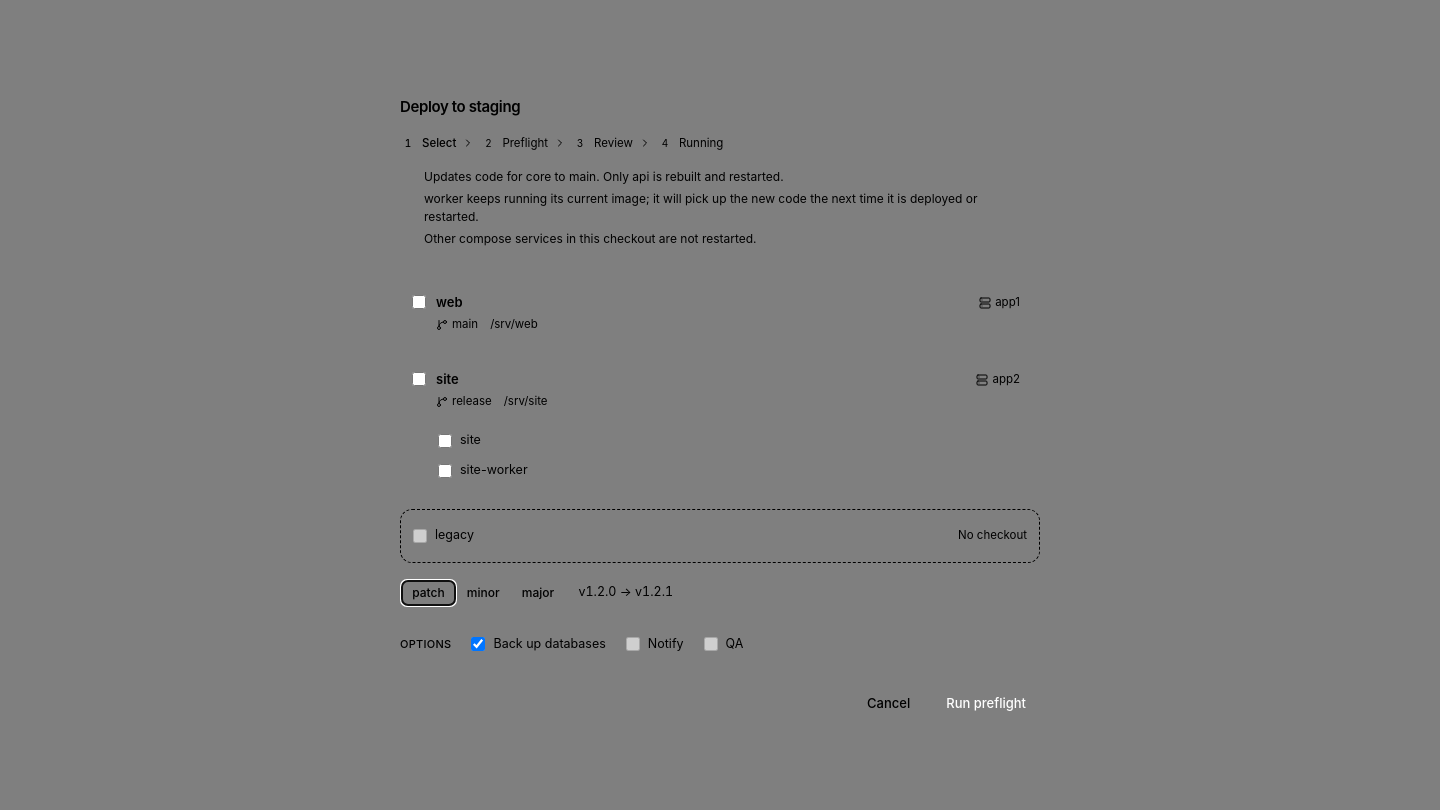
deploy wizard › preflight sends serviceIds and checkoutIds
Earlier steps of the test are not shown.
Later steps or results of the test are not shown.
(page scrolled)
Expected: the text "v1.2.0 → v1.2.1" is shown, [578, 583, 673, 602]
Click the checkbox named "Whole checkout" at (419, 302), box [412, 295, 426, 309]
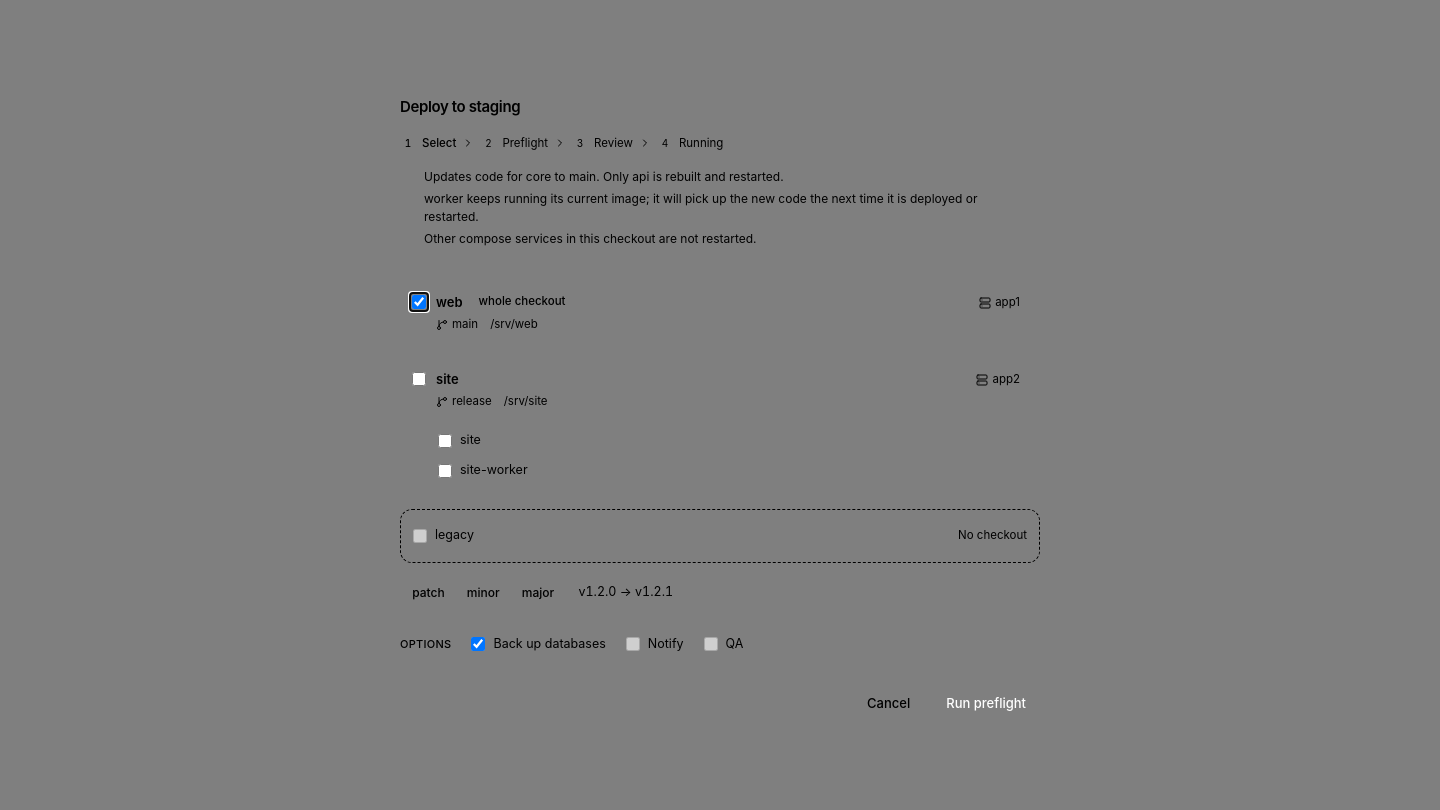
Expected: the checkbox labelled "Notify" is disabled, [626, 637, 640, 651]
Expected: the text "whole checkout" is shown, [478, 294, 566, 308]
